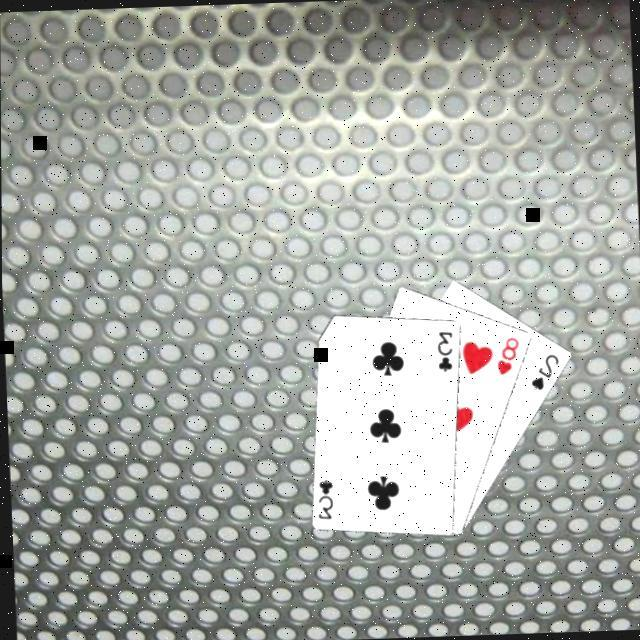2S: (524, 351, 560, 394)
3C: (430, 328, 454, 375), (310, 476, 334, 523)
8H: (489, 334, 521, 379)
